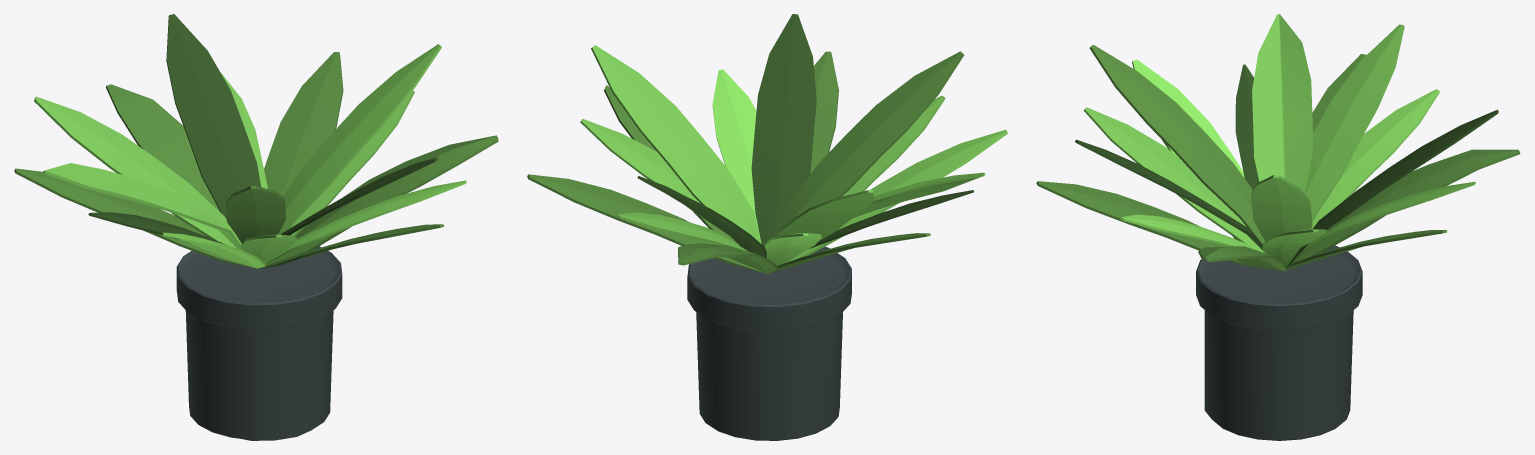
Rendered from Plant.fbx.
The picture shows the model from 3 angles, left to right: view 1: azimuth 30°, elevation 25°; view 2: azimuth 150°, elevation 25°; view 3: azimuth 270°, elevation 25°; orthographic projection.
Visible parts, largest first — view 1: Doudle_leaf6; view 2: Doudle_leaf6; view 3: Doudle_leaf6.
Boxes of the visible parts, box(x1,y1,x2,y2) form: Doudle_leaf6: box(14, 14, 498, 440); Doudle_leaf6: box(527, 14, 1007, 440); Doudle_leaf6: box(1036, 14, 1520, 440).
Size of the model in its own units: 16.09 by 11.88 by 16.12.
1 material, 1 textured.
